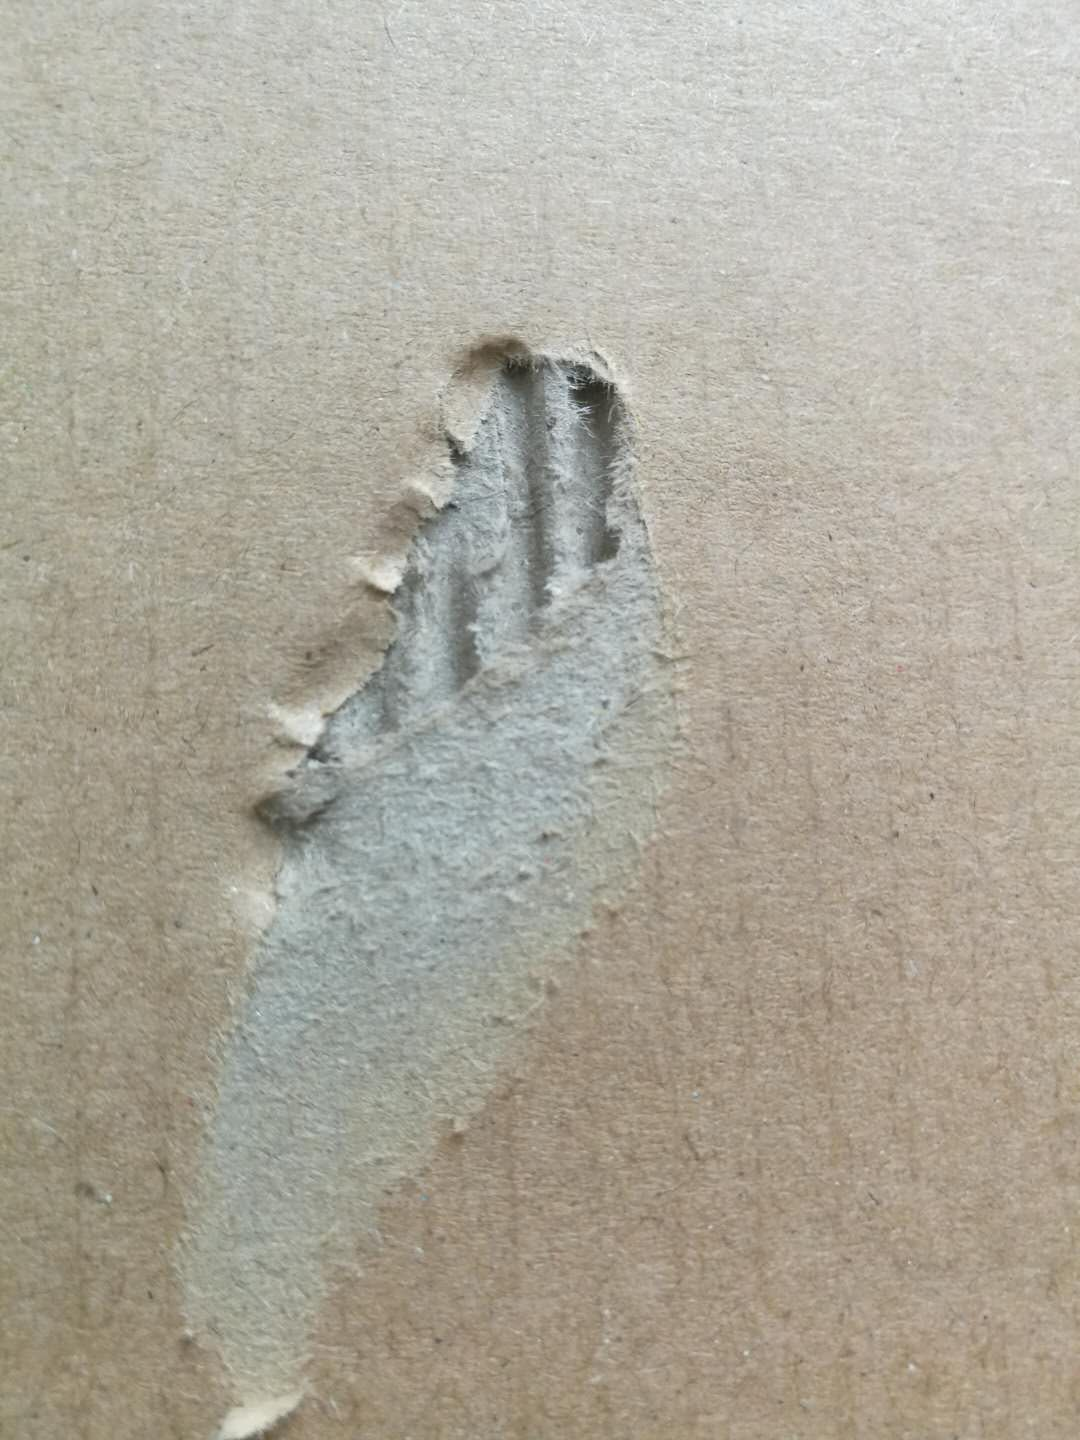defect: (112, 279, 743, 1435)
